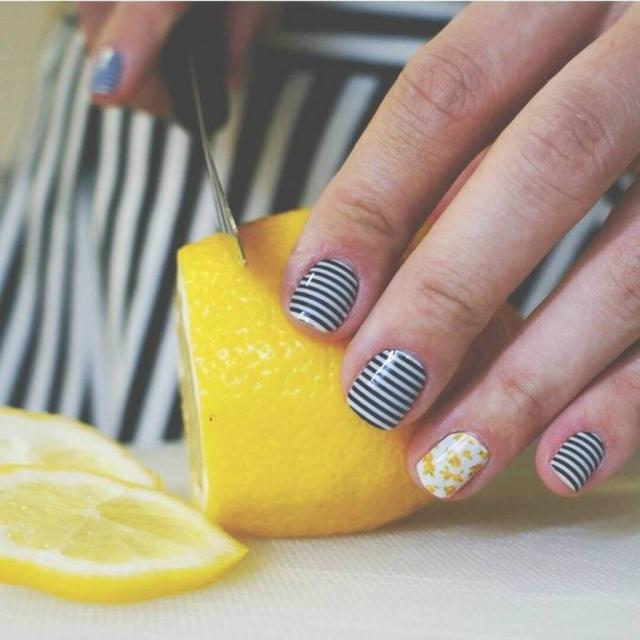Lemon: (175, 213, 522, 538), (1, 471, 246, 603), (0, 406, 143, 470)
